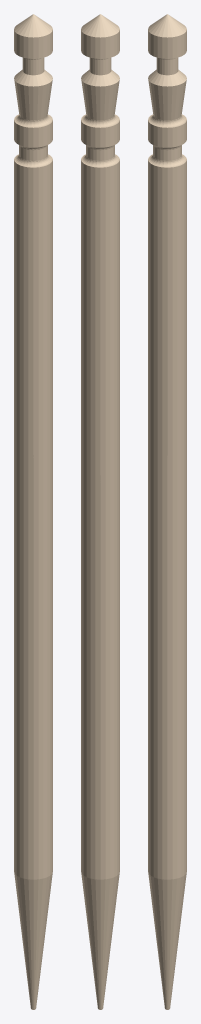
File: tsumayoji.fbx
The picture shows the model from 3 angles, left to right: view 1: azimuth 90°, elevation 25°; view 2: azimuth 150°, elevation 25°; view 3: azimuth 270°, elevation 25°; orthographic projection.
Bounding box in the file's own units: 230 × 6500 × 230.
